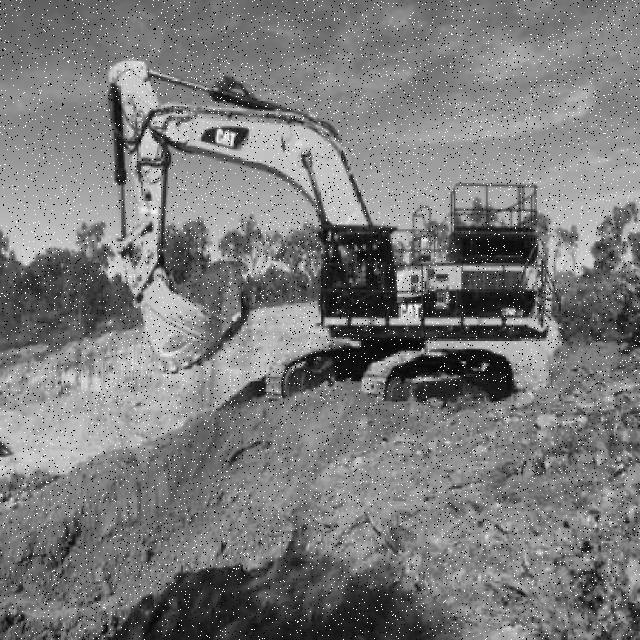Construction Equipment: (106, 59, 555, 407)
